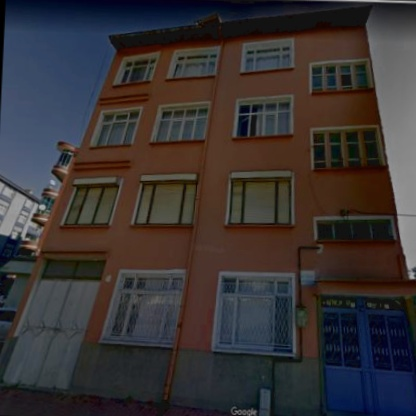door: (318, 295, 416, 416)
